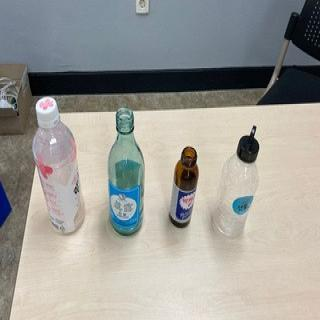plastic_bottle: (31, 94, 91, 237), (103, 106, 153, 240), (214, 119, 262, 241)
